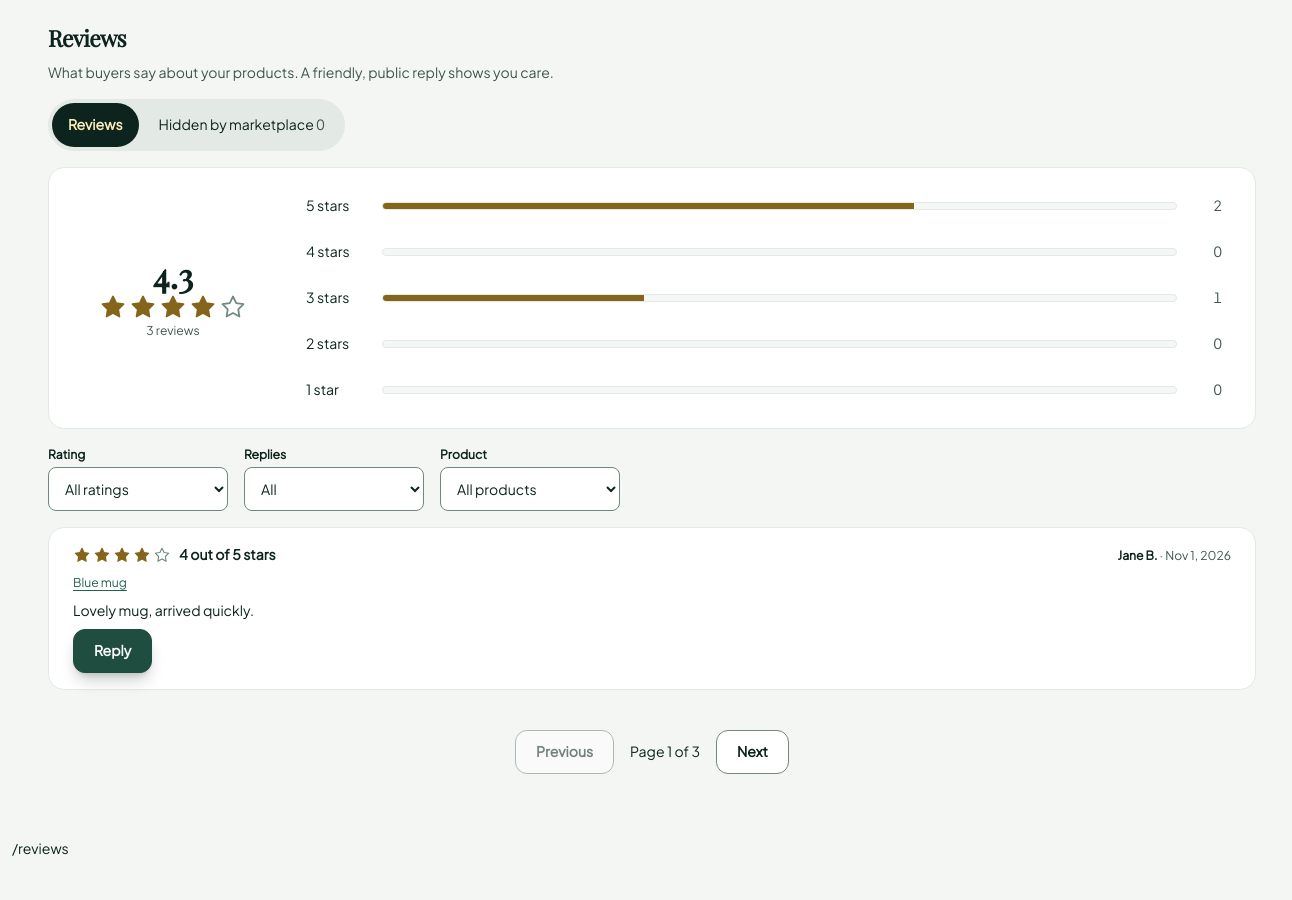
Test: reviews page › pages through long lists
This screenshot has width=1292, height=900.
Expected: the text "Page 1 of 3" is shown, [630,741,700,762]
Click the button "Next" at (752, 752), box [716,730,789,774]
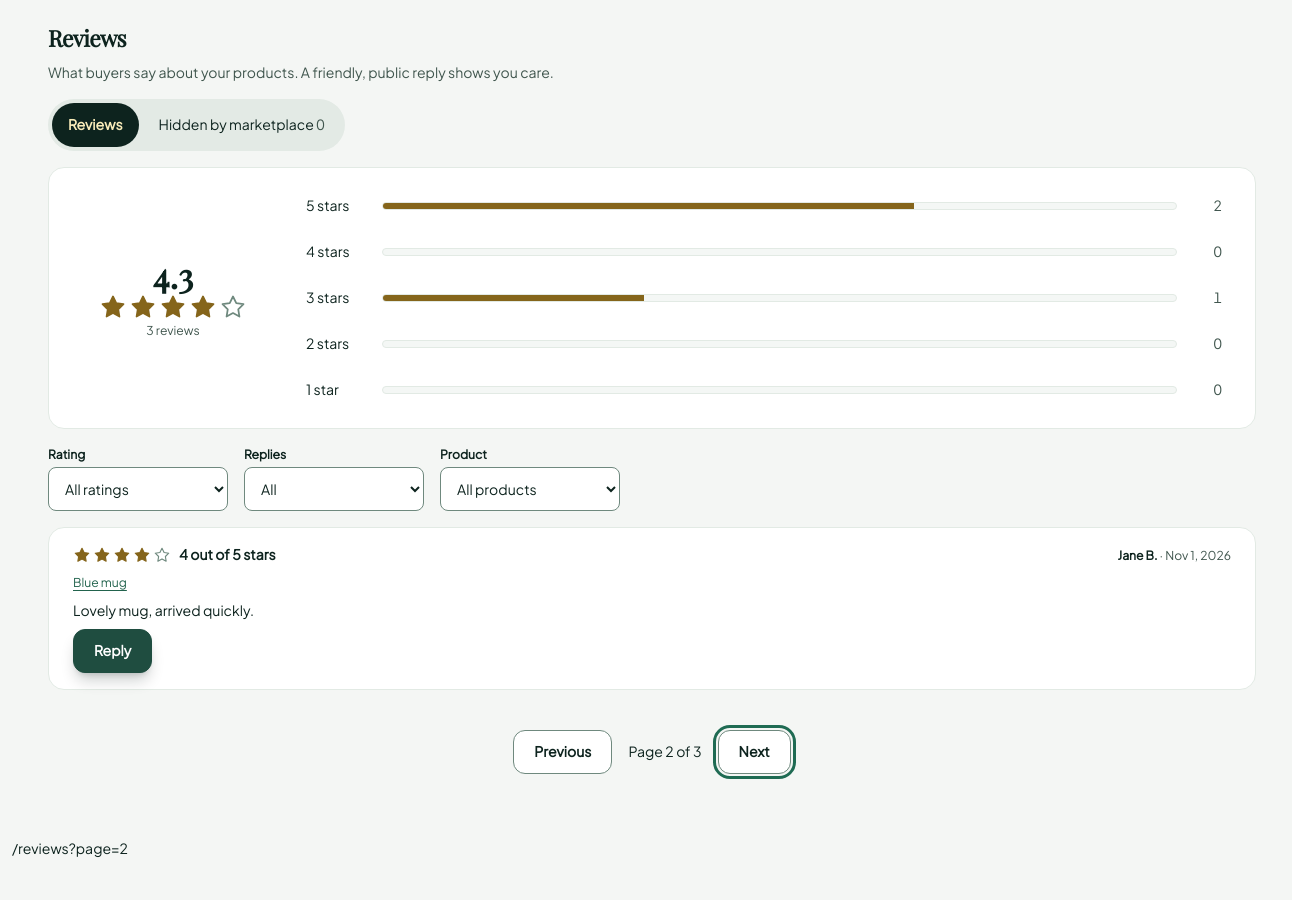
Expected: the text "Page 2 of 3" is shown, [628,741,702,762]
